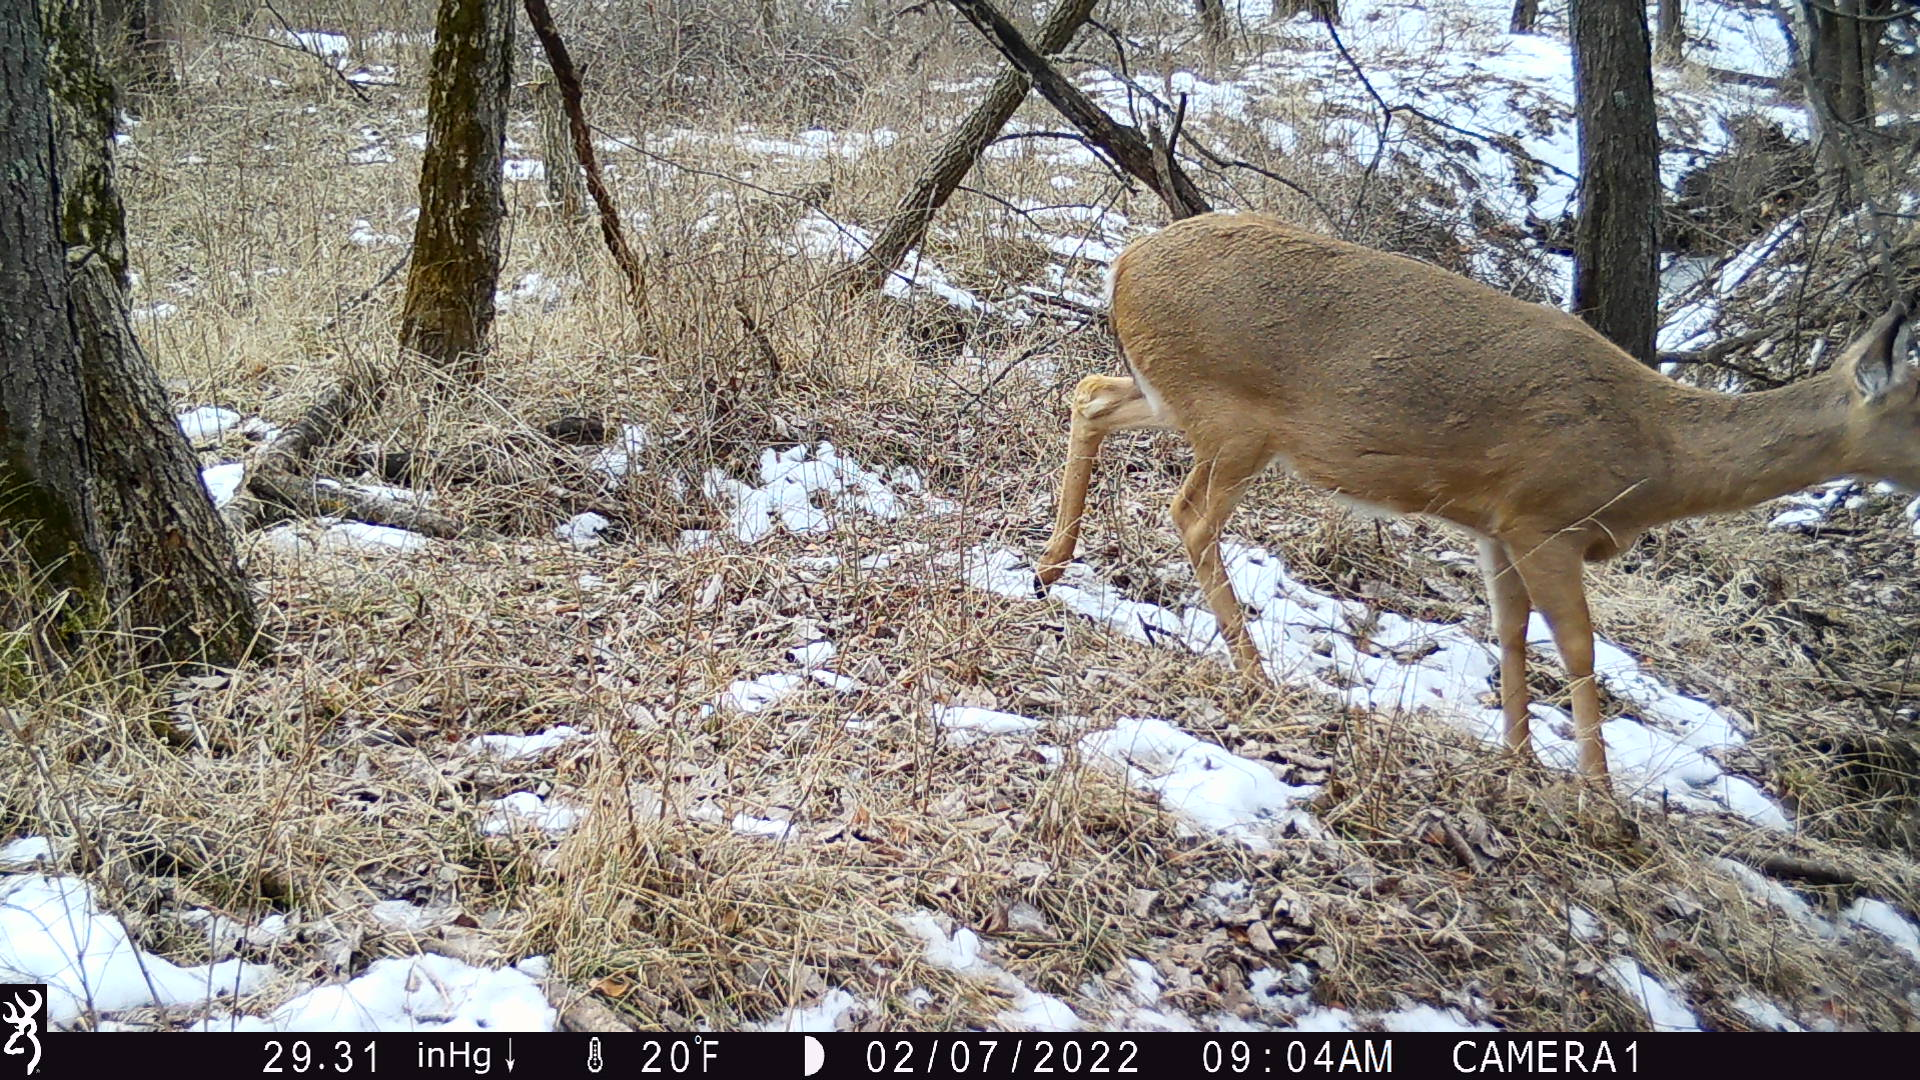Deer: (1033, 211, 1920, 782)
